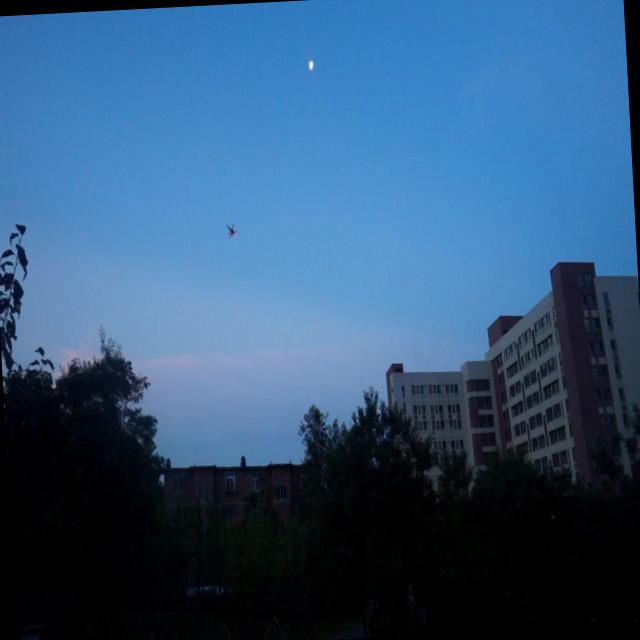drone: (224, 221, 238, 241)
